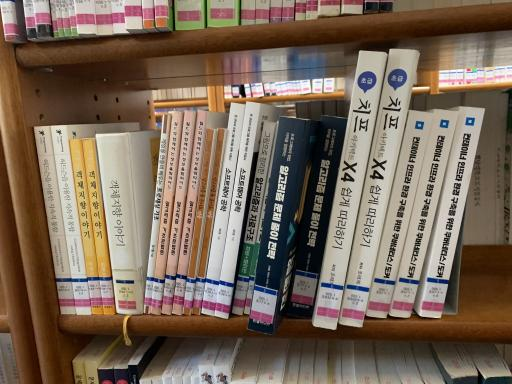book-spine: (339, 50, 419, 327), (313, 50, 387, 330), (389, 109, 459, 318), (420, 106, 485, 318), (366, 110, 432, 318), (247, 116, 307, 335), (287, 115, 348, 318), (215, 101, 261, 320), (201, 102, 245, 316), (231, 121, 277, 315), (96, 133, 144, 315), (49, 124, 92, 315), (33, 126, 76, 314), (161, 109, 197, 315), (172, 110, 208, 315), (243, 121, 278, 314), (150, 111, 182, 315), (182, 128, 216, 316), (192, 128, 225, 316), (69, 139, 104, 314), (82, 139, 116, 315), (144, 115, 170, 313)
